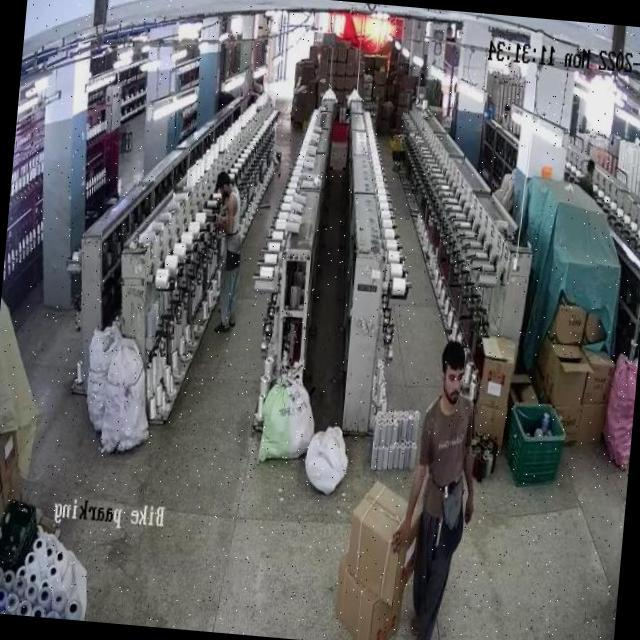person: (402, 334, 479, 629), (198, 171, 243, 330)
